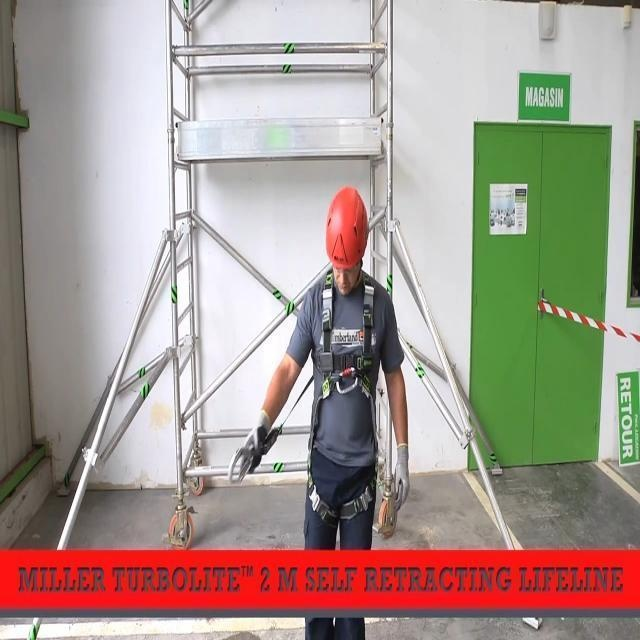Arnes_seguridad: (306, 276, 381, 540)
